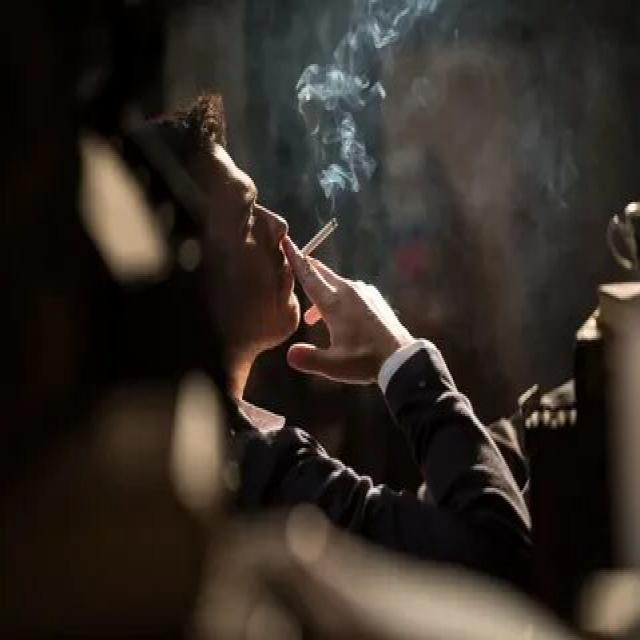smoke: (292, 214, 344, 264)
